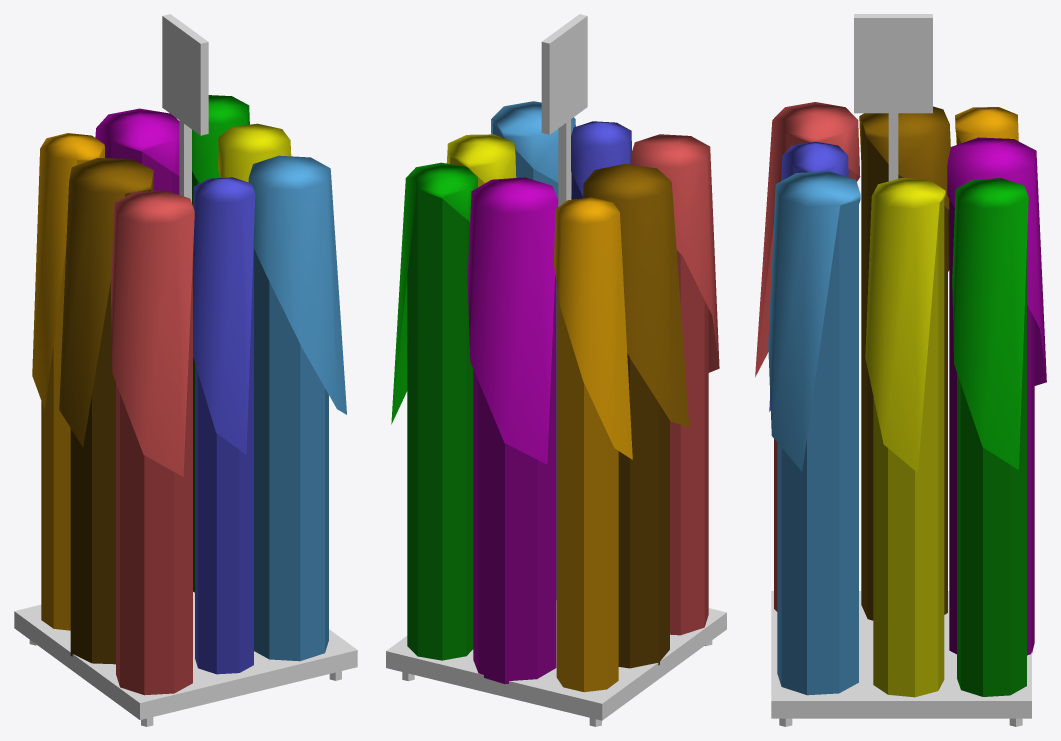
The model's file is Telas.fbx.
3 renders of one model, left to right at view 1: azimuth 30°, elevation 25°; view 2: azimuth 150°, elevation 25°; view 3: azimuth 270°, elevation 25°, orthographic. The views are drawn at different scales.
Parts seen in each view (by area): view 1: pCylinder5, pCylinder1, pCylinder2, pCylinder3, pCylinder6, pCylinder4, pCylinder16, pCylinder15, pCube1, pCylinder7, pCylinder10, pCube2 (+5 smaller); view 2: pCylinder12, pCylinder8, pCylinder9, pCylinder7, pCylinder15, pCylinder16, pCylinder10, pCylinder1, pCube1, pCylinder2, pCube2, pCylinder11 (+4 smaller); view 3: pCylinder5, pCylinder13, pCylinder12, pCylinder11, pCylinder14, pCylinder6, pCube1, pCube2, pCylinder16, pCylinder9, pCylinder2, pCylinder8 (+4 smaller).
Part boxes in pixels (left/top/right/bottom): pCylinder5: left=254, top=249, right=328, bottom=661; pCylinder1: left=116, top=259, right=192, bottom=695; pCylinder2: left=111, top=190, right=194, bottom=476; pCylinder3: left=195, top=238, right=253, bottom=674; pCylinder6: left=248, top=155, right=346, bottom=414; pCylinder4: left=193, top=177, right=255, bottom=454; pCylinder16: left=70, top=189, right=151, bottom=664; pCylinder15: left=59, top=158, right=153, bottom=447; pCube1: left=14, top=592, right=357, bottom=719; pCylinder7: left=41, top=160, right=89, bottom=630; pCylinder10: left=32, top=133, right=104, bottom=409; pCube2: left=162, top=14, right=208, bottom=202; pCylinder12: left=407, top=189, right=473, bottom=660; pCylinder8: left=473, top=275, right=556, bottom=684; pCylinder9: left=467, top=177, right=558, bottom=464; pCylinder7: left=556, top=284, right=618, bottom=692; pCylinder15: left=583, top=163, right=689, bottom=427; pCylinder16: left=618, top=352, right=669, bottom=668; pCylinder10: left=554, top=197, right=632, bottom=459; pCylinder1: left=670, top=250, right=708, bottom=635; pCube1: left=386, top=600, right=726, bottom=720; pCylinder2: left=630, top=134, right=719, bottom=372; pCube2: left=541, top=14, right=587, bottom=206; pCylinder11: left=391, top=162, right=477, bottom=424; pCylinder5: left=777, top=200, right=858, bottom=695; pCylinder13: left=873, top=198, right=944, bottom=697; pCylinder12: left=957, top=250, right=1026, bottom=696; pCylinder11: left=952, top=178, right=1028, bottom=469; pCylinder14: left=865, top=178, right=945, bottom=472; pCylinder6: left=768, top=171, right=860, bottom=471; pCube1: left=771, top=591, right=1031, bottom=718; pCube2: left=854, top=14, right=932, bottom=181; pCylinder16: left=861, top=123, right=947, bottom=620; pCylinder9: left=947, top=137, right=1046, bottom=385; pCylinder2: left=755, top=102, right=860, bottom=377; pCylinder8: left=949, top=199, right=1034, bottom=655.
Size of the model in its own units: 188 by 483 by 194.
